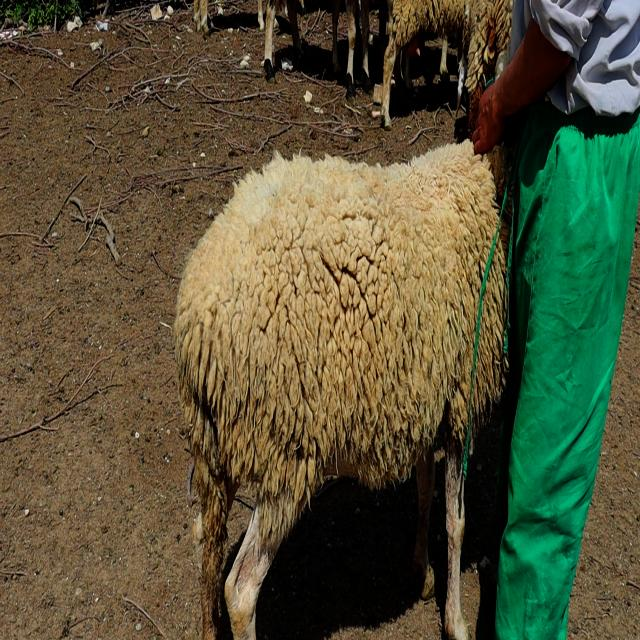Score_5: (174, 140, 512, 639)
